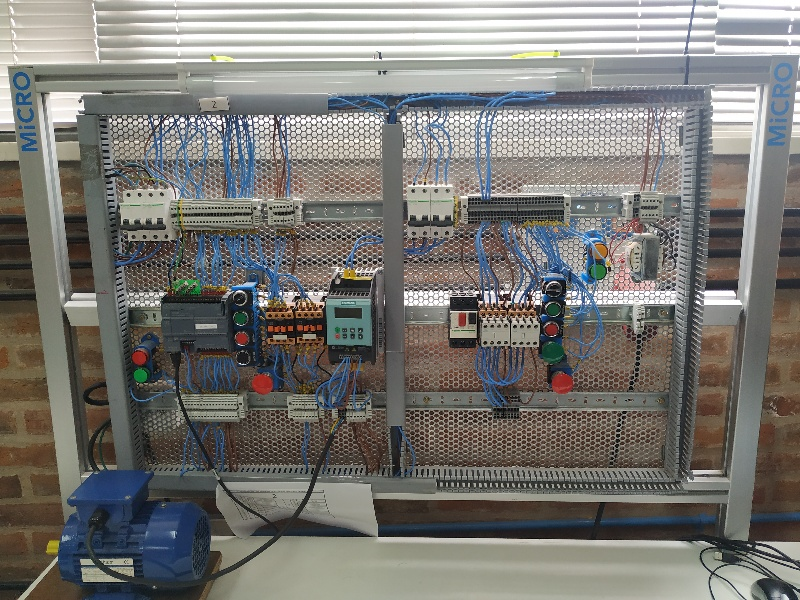Tablero 2: (88, 107, 693, 491)
